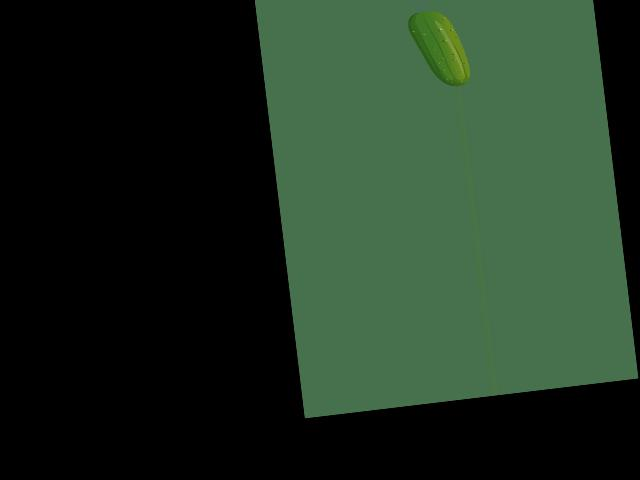cucumber: (406, 6, 471, 91)
